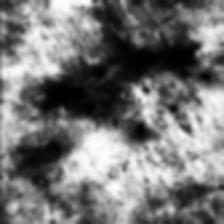Potentially Malignant Skin Tumors: (55, 81, 90, 119)
